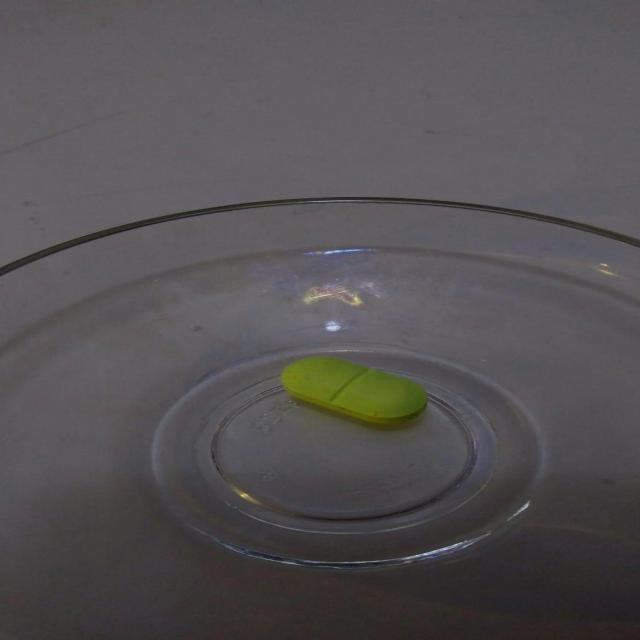pill: (272, 352, 440, 427)
